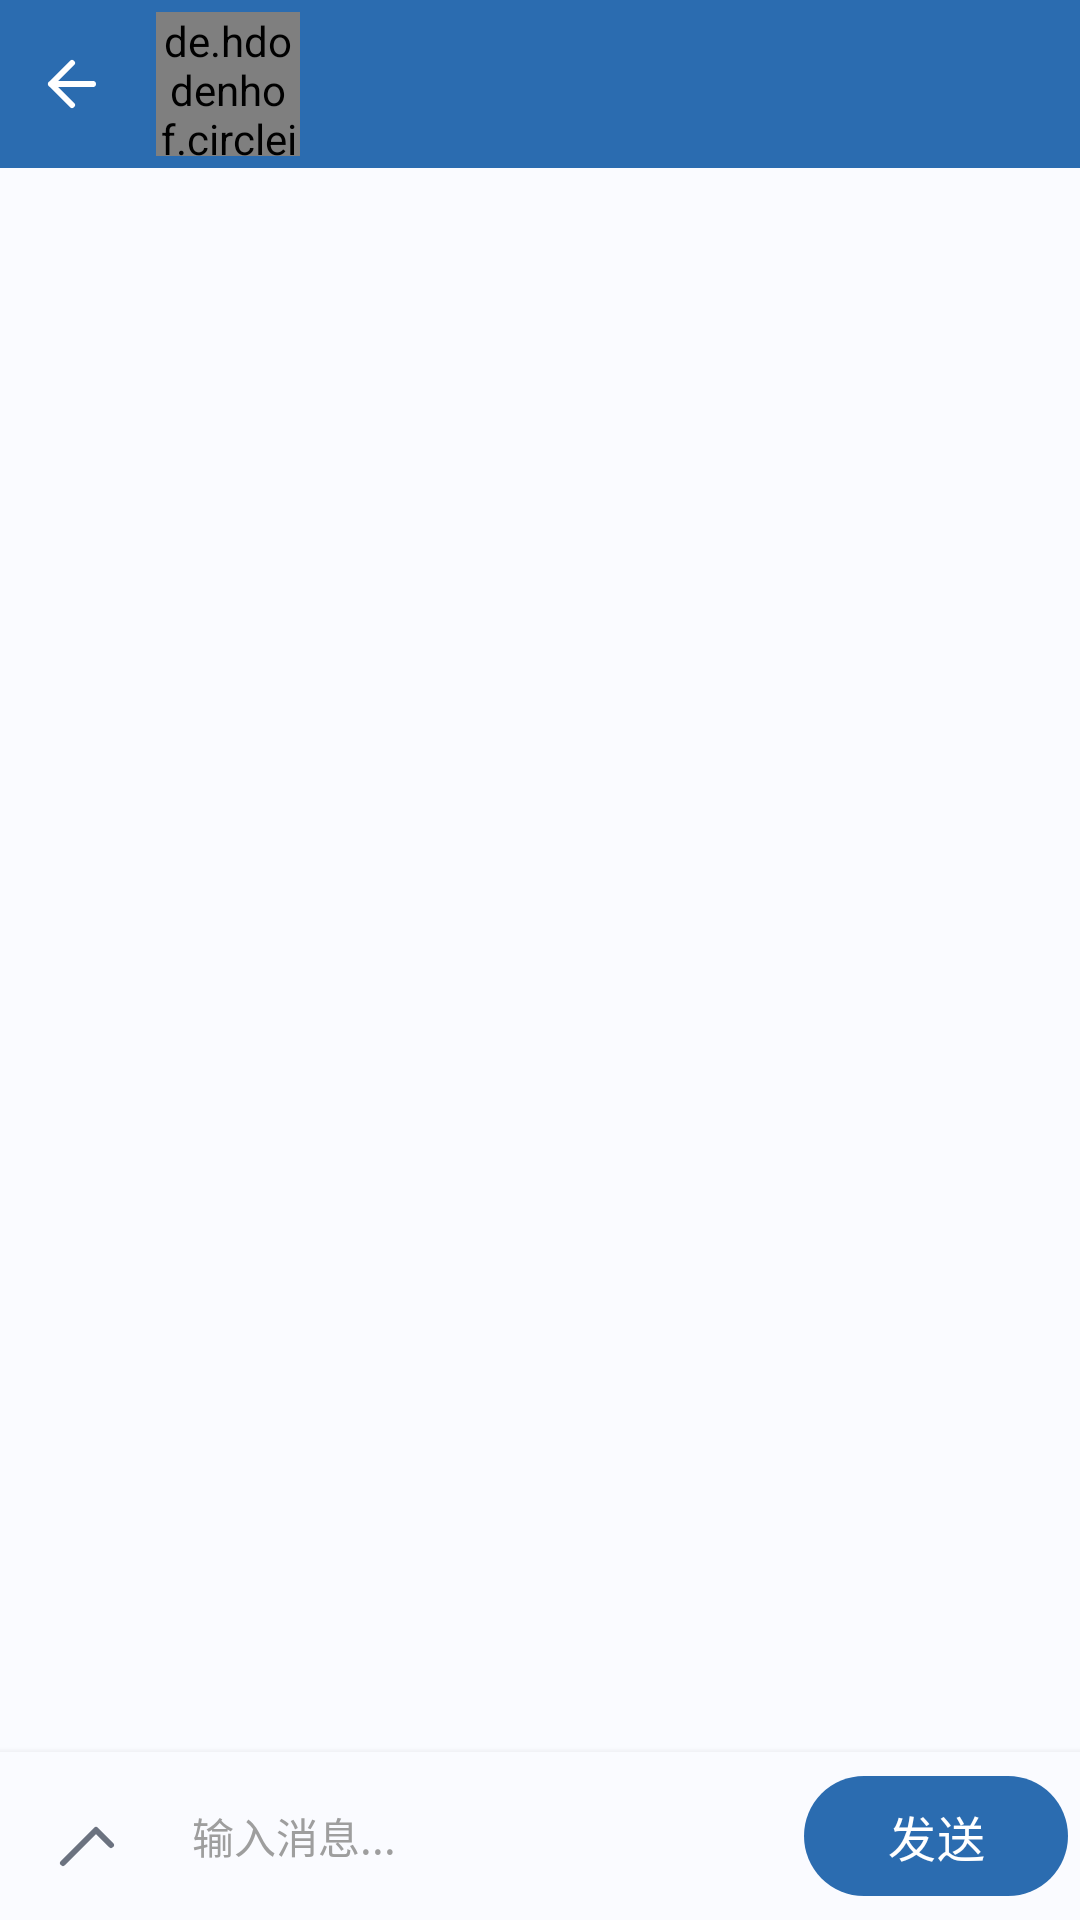

Named icons in this screenshot (1080*1920) and their centers, point (x, y):
返回: point (72, 84)
